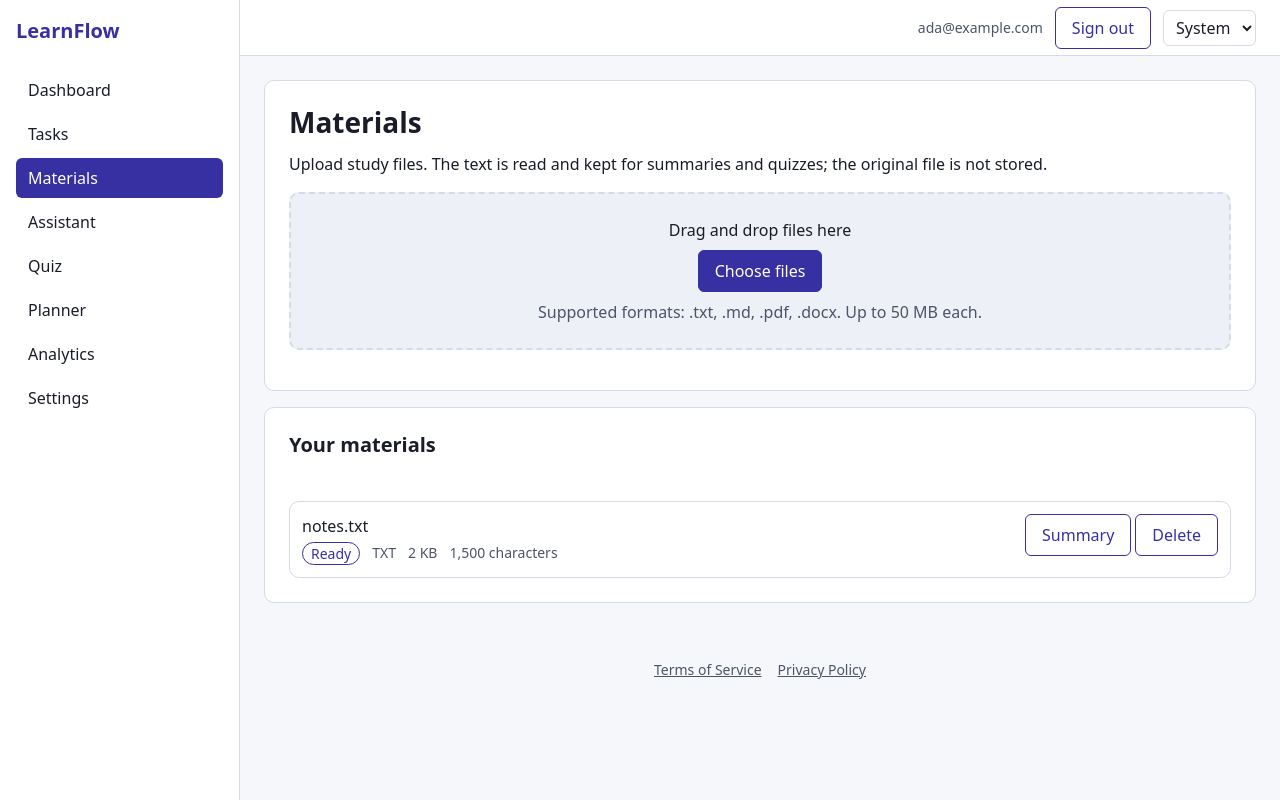
Summary panel › offers to generate when there is no summary, then shows the result
Expected: the element that starts with "Materials" is shown, [240,56,1279,643]
Click the button with aria-label "Summary: notes.txt" at (1078, 535), box [1025,514,1131,556]
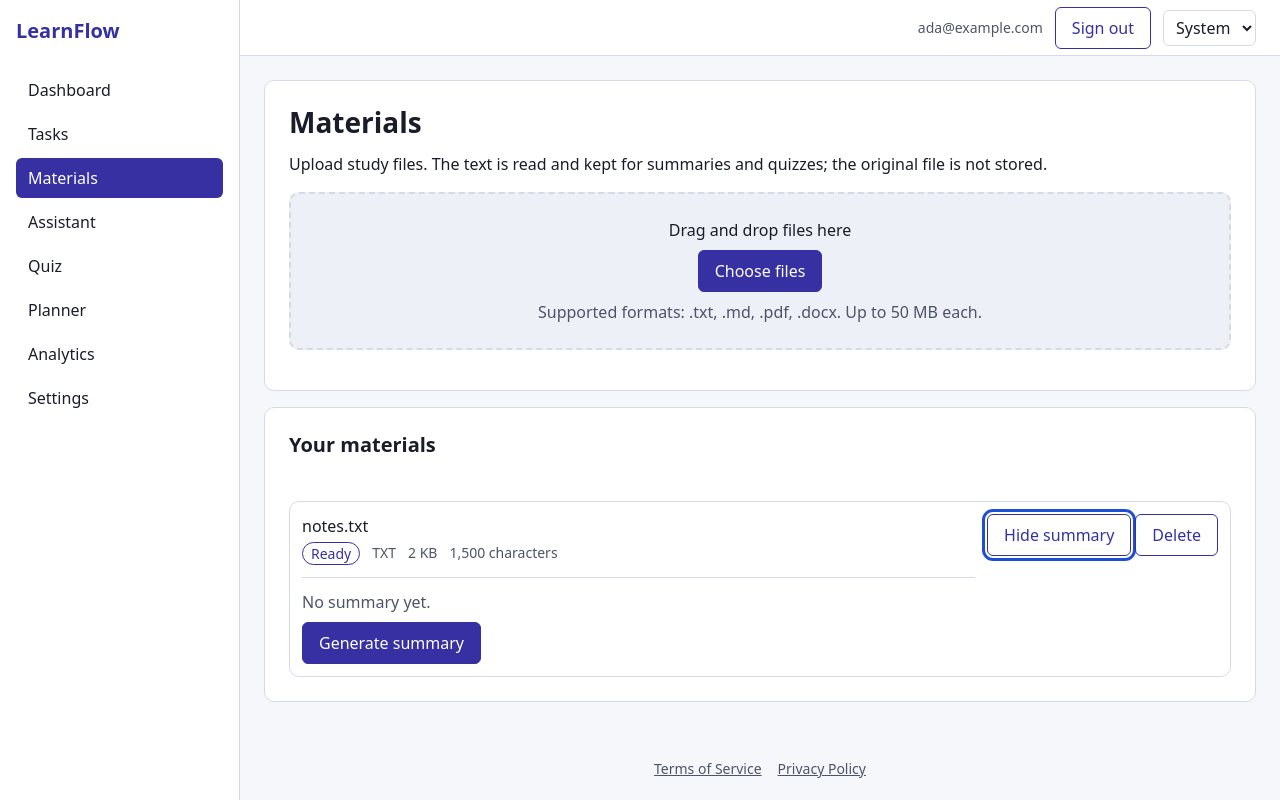
Now the text "No summary yet." is shown, box [302,591,431,613]
Click the button "Generate summary" at (392, 643), box [302,622,481,664]
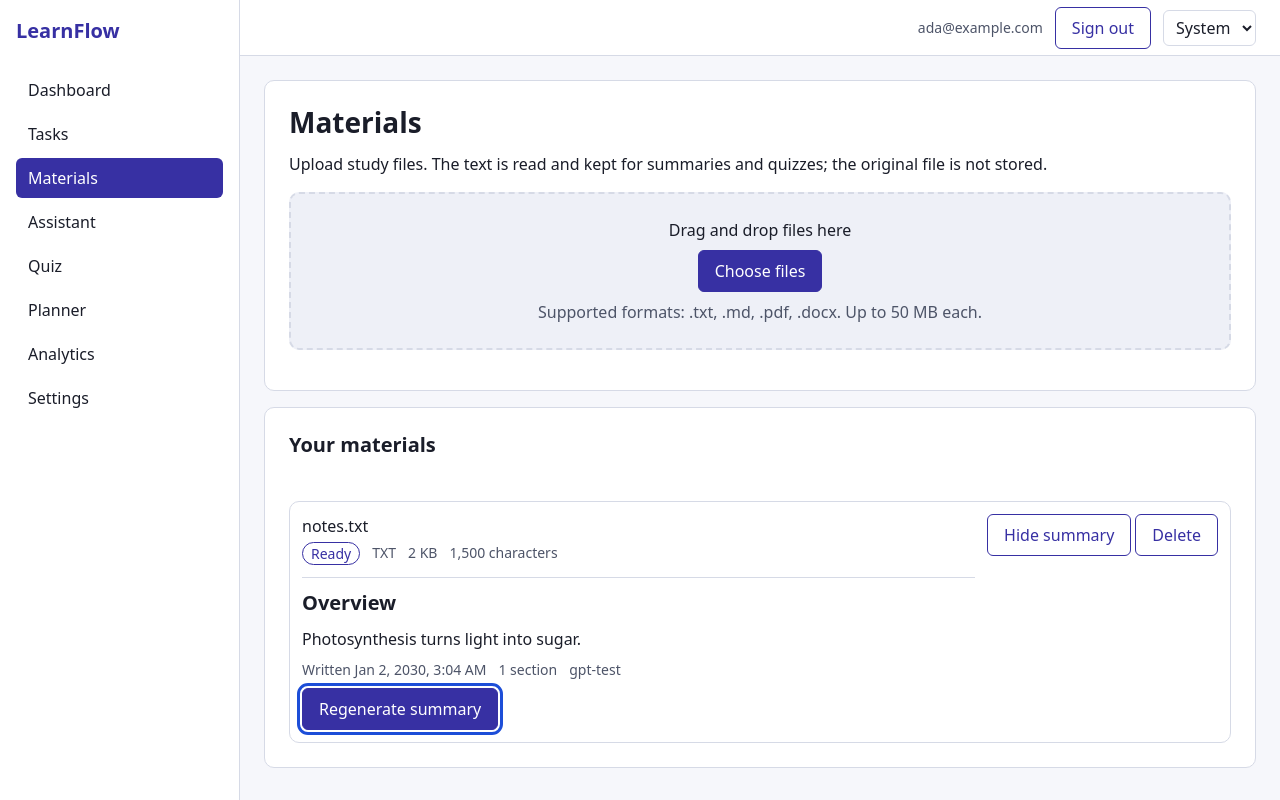
Now the heading "Overview" is shown, box [302,589,396,616]
Now the text "Photosynthesis turns light into sugar." is shown, box [302,628,581,650]
Now the text "No summary yet." is gone
